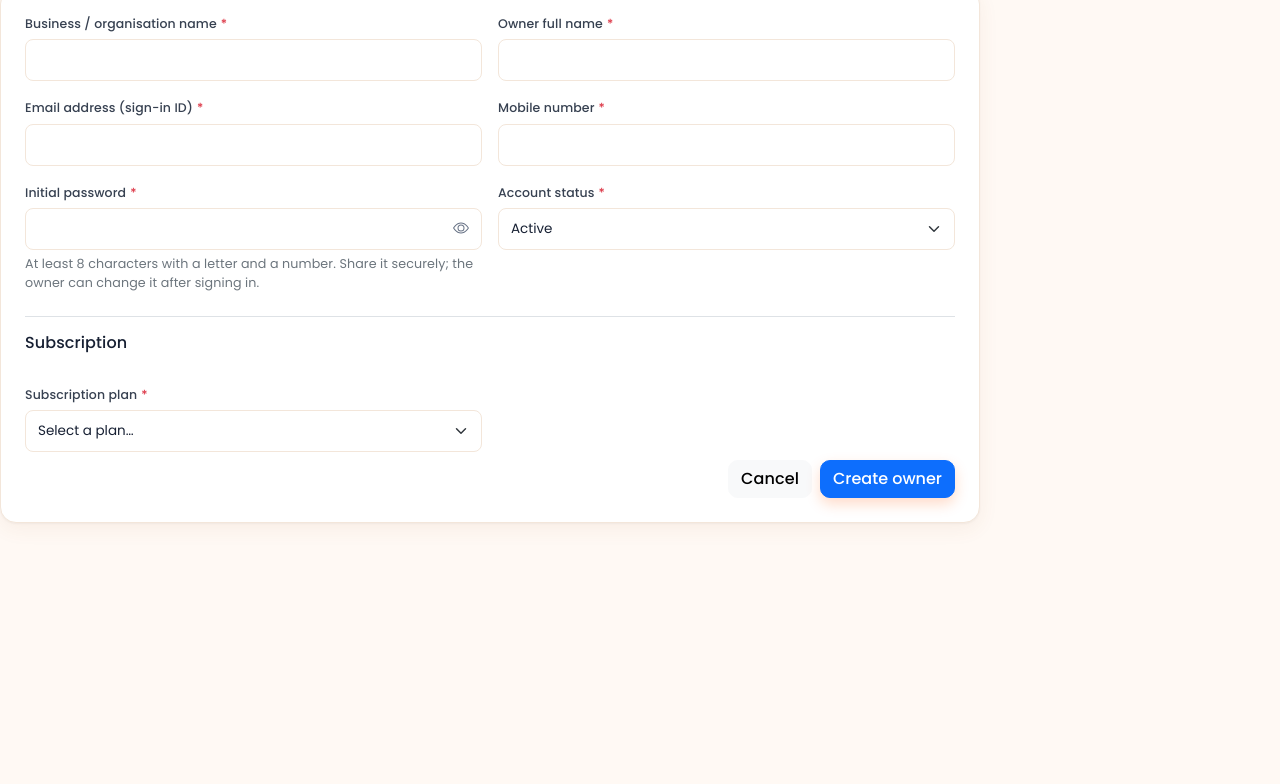
a limit that differs from the plan is marked Custom, shows the plan value, and can be reset
Select "Starter — ₹199/month" in the dropdown labelled "Subscription plan*" at (254, 431), box [25,410,482,452]
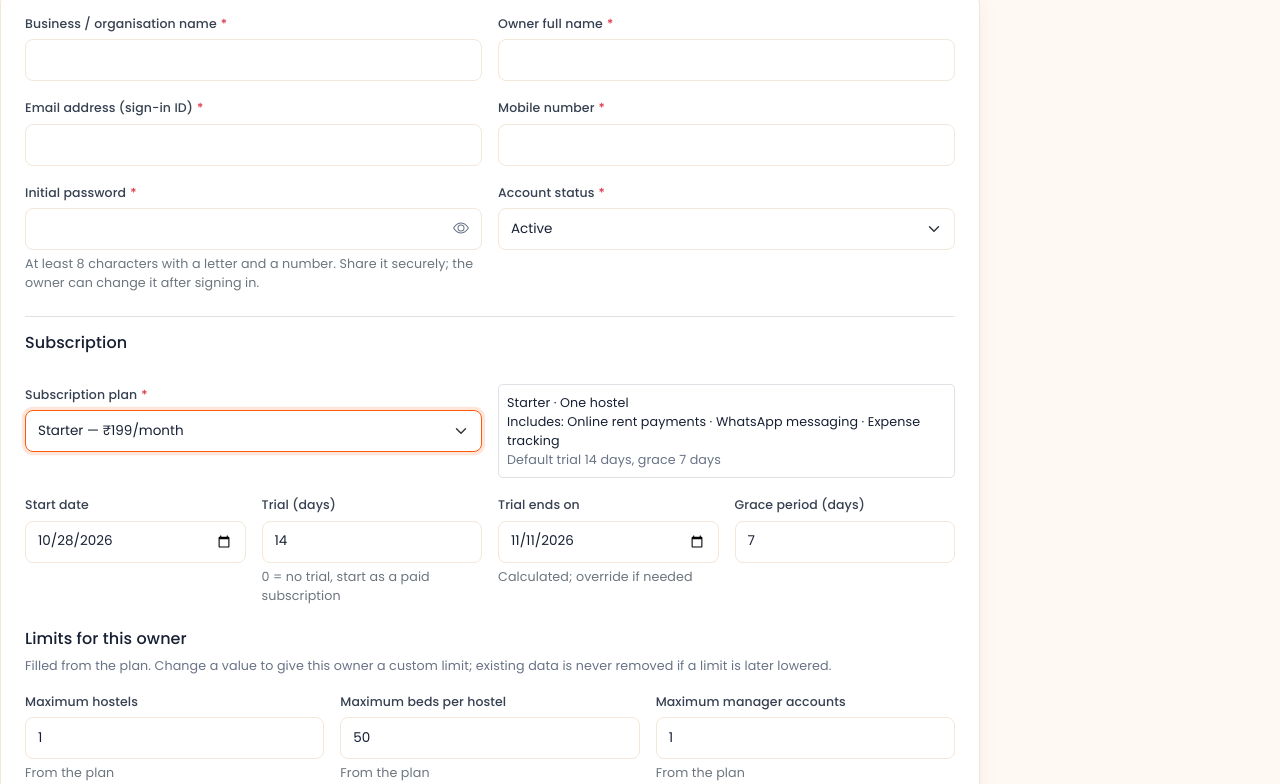
Replace the text in the number field labelled "Maximum hostels" with "4" at (175, 738), box [25,717,324,759]
(page scrolled)
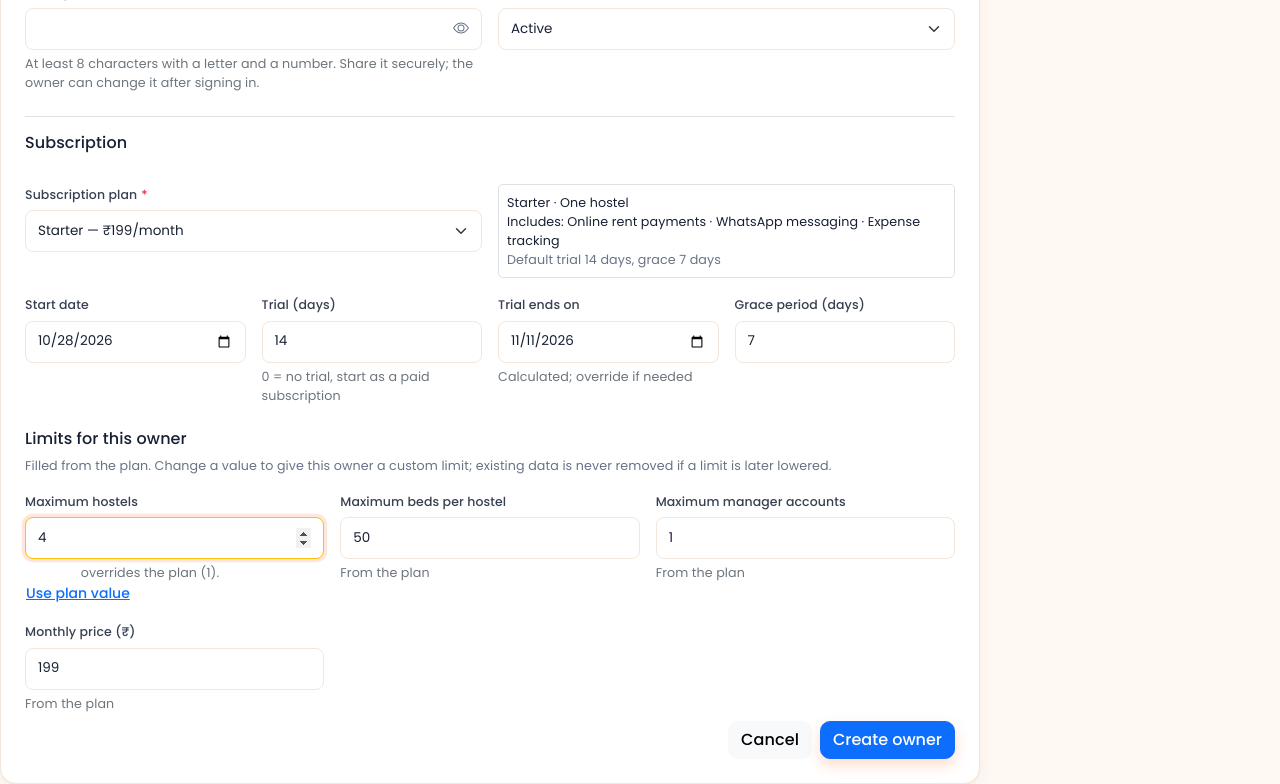
Check: the text "Custom overrides the plan (1). Use plan value" is shown, box [25,564,219,605]
Click the button "Use plan value".
click(78, 594)  # box [25,582,131,605]
(page scrolled)
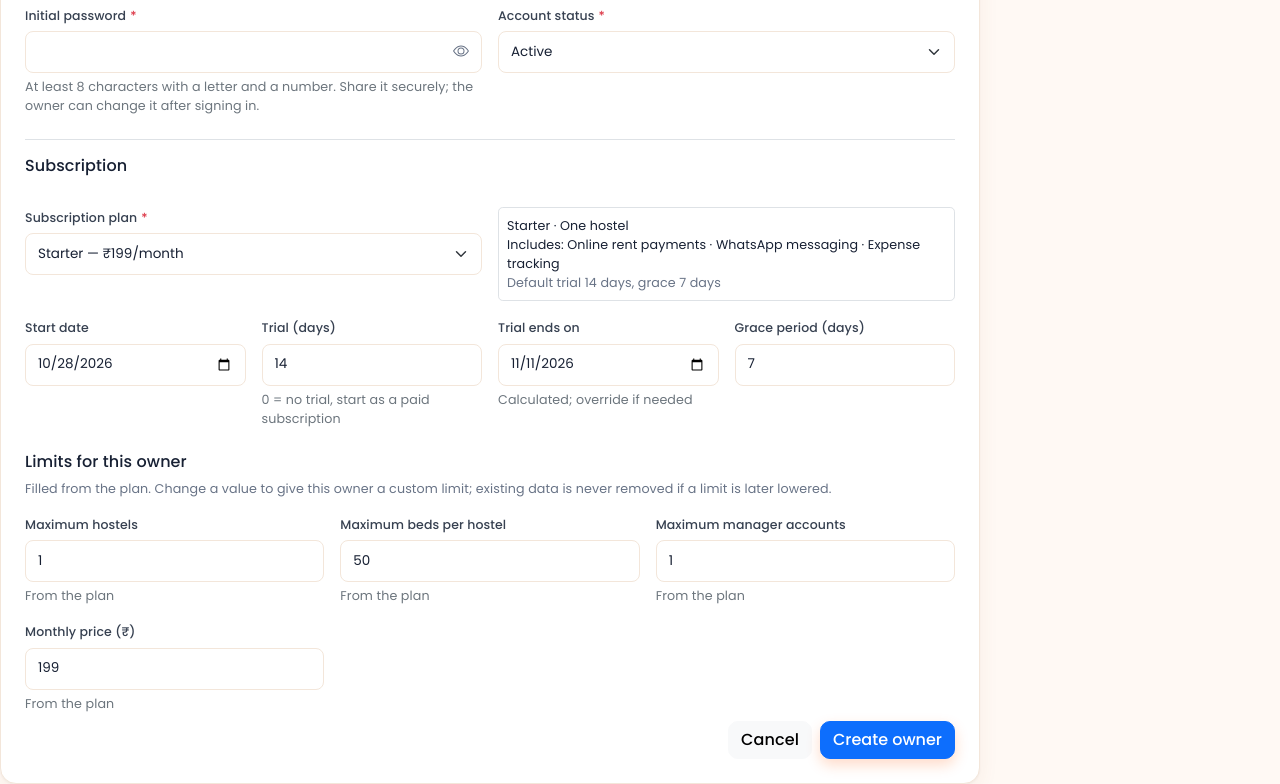
Check: the number field labelled "Maximum hostels" holds "1", box [25,540,324,582]
